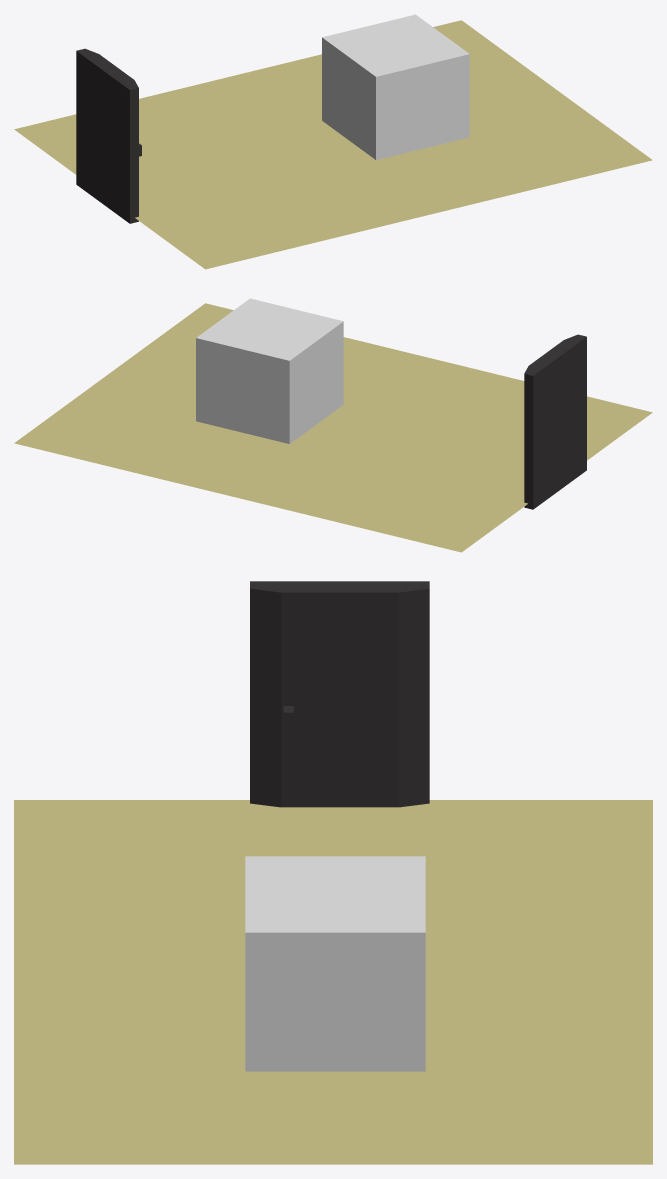
The model's file is ByakkoStage4.15.fbx.
The picture shows the model from 3 angles, top to bottom: view 1: azimuth 30°, elevation 25°; view 2: azimuth 150°, elevation 25°; view 3: azimuth 270°, elevation 25°; orthographic projection. The views are drawn at different scales.
Visible parts, largest first — view 1: Plane.052, Plane.054, Plane.053; view 2: Plane.052, Plane.054, Plane.053; view 3: Plane.052, Plane.053, Plane.054.
Boxes of the visible parts, x1,y1,x2,y2 form: Plane.052: (14, 20, 652, 269); Plane.054: (322, 14, 469, 160); Plane.053: (76, 48, 141, 223); Plane.052: (14, 303, 652, 552); Plane.054: (196, 298, 343, 443); Plane.053: (524, 334, 586, 509); Plane.052: (14, 800, 652, 1164); Plane.053: (250, 581, 429, 807); Plane.054: (245, 856, 425, 1071).
Size of the model in its own units: 34.66 by 10.51 by 25.41.
